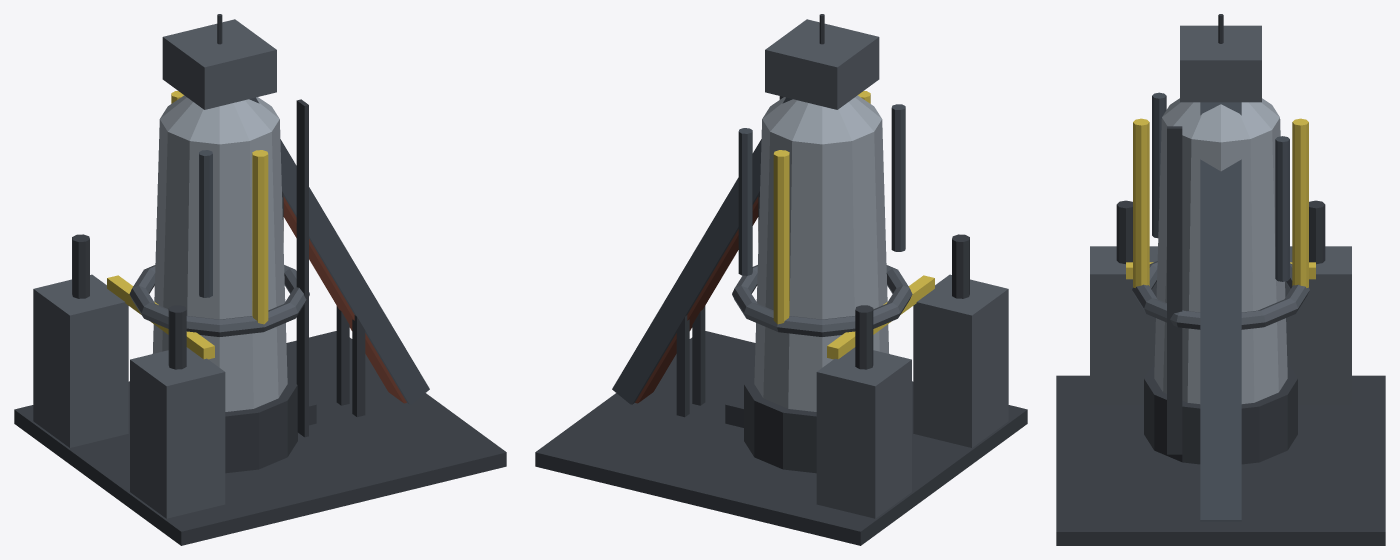
Rendered from drp_shaft.glb.
3 renders of one model, left to right at view 1: azimuth 30°, elevation 25°; view 2: azimuth 150°, elevation 25°; view 3: azimuth 270°, elevation 25°, orthographic.
Visible parts, largest first — view 1: base_plinth, shaft, reformer_left, reformer_right, top_house, charge_gallery, shaft_skirt, shaft_top_dome, access_ladder, bustle_ring, riser_pipe_a, downcomer_a (+6 smaller); view 2: base_plinth, shaft, reformer_right, reformer_left, top_house, charge_gallery, shaft_skirt, shaft_top_dome, bustle_ring, riser_pipe_b, downcomer_a, downcomer_b (+6 smaller); view 3: base_plinth, shaft, charge_gallery, reformer_left, reformer_right, shaft_skirt, top_house, access_ladder, shaft_top_dome, bustle_ring, riser_pipe_a, riser_pipe_b (+4 smaller).
Part boxes in pixels (x1=…): base_plinth: x1=14, y1=331, x2=506, y2=545; shaft: x1=152, y1=119, x2=287, y2=411; reformer_left: x1=130, y1=347, x2=225, y2=518; reformer_right: x1=33, y1=274, x2=128, y2=447; top_house: x1=162, y1=19, x2=276, y2=109; charge_gallery: x1=249, y1=97, x2=429, y2=404; shaft_skirt: x1=225, y1=367, x2=297, y2=473; shaft_top_dome: x1=160, y1=95, x2=279, y2=144; access_ladder: x1=296, y1=99, x2=308, y2=437; bustle_ring: x1=129, y1=265, x2=309, y2=336; riser_pipe_a: x1=252, y1=150, x2=268, y2=324; downcomer_a: x1=199, y1=150, x2=212, y2=297; base_plinth: x1=535, y1=331, x2=1027, y2=545; shaft: x1=754, y1=119, x2=889, y2=411; reformer_right: x1=816, y1=347, x2=911, y2=518; reformer_left: x1=913, y1=274, x2=1008, y2=447; top_house: x1=765, y1=19, x2=879, y2=109; charge_gallery: x1=612, y1=97, x2=792, y2=404; shaft_skirt: x1=744, y1=367, x2=816, y2=473; shaft_top_dome: x1=762, y1=95, x2=881, y2=144; bustle_ring: x1=732, y1=265, x2=912, y2=336; riser_pipe_b: x1=773, y1=150, x2=789, y2=324; downcomer_a: x1=891, y1=104, x2=905, y2=251; downcomer_b: x1=738, y1=128, x2=752, y2=275; base_plinth: x1=1056, y1=375, x2=1385, y2=545; shaft: x1=1154, y1=118, x2=1287, y2=403; charge_gallery: x1=1200, y1=102, x2=1241, y2=521; reformer_left: x1=1090, y1=246, x2=1157, y2=404; reformer_right: x1=1285, y1=246, x2=1351, y2=404; shaft_skirt: x1=1144, y1=362, x2=1297, y2=464; top_house: x1=1180, y1=25, x2=1261, y2=102; access_ladder: x1=1167, y1=126, x2=1182, y2=454; shaft_top_dome: x1=1162, y1=98, x2=1279, y2=142; bustle_ring: x1=1132, y1=261, x2=1309, y2=329; riser_pipe_a: x1=1133, y1=118, x2=1149, y2=287; riser_pipe_b: x1=1292, y1=118, x2=1308, y2=287.
Bounding box in the file's own units: 7.2 × 9.3 × 6.4.
